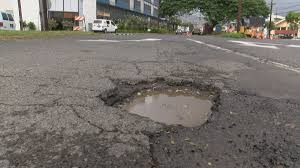Pothole: (94, 74, 223, 136)
